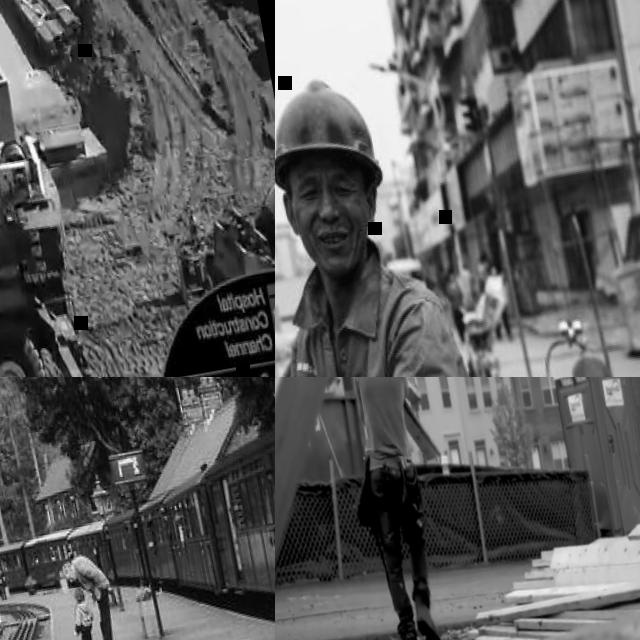Hardhat: (275, 72, 383, 199)
NO-Hardhat: (71, 586, 84, 602), (63, 562, 72, 578), (478, 253, 487, 262), (448, 268, 455, 275), (489, 261, 495, 267)
NO-Mask: (302, 208, 373, 275), (68, 567, 77, 581), (73, 598, 78, 604)
NO-Safety Vest: (348, 377, 420, 468), (442, 267, 470, 341), (73, 553, 106, 595), (74, 601, 93, 628), (458, 272, 475, 299), (447, 284, 463, 308), (490, 274, 506, 297), (476, 269, 488, 291)
Person: (275, 56, 523, 377), (333, 377, 459, 640), (61, 549, 123, 640), (482, 258, 515, 342), (65, 585, 101, 640), (455, 260, 480, 309), (473, 253, 493, 295)
Safety Vest: (275, 221, 519, 377)
machinery: (0, 0, 104, 377), (189, 114, 275, 284)
